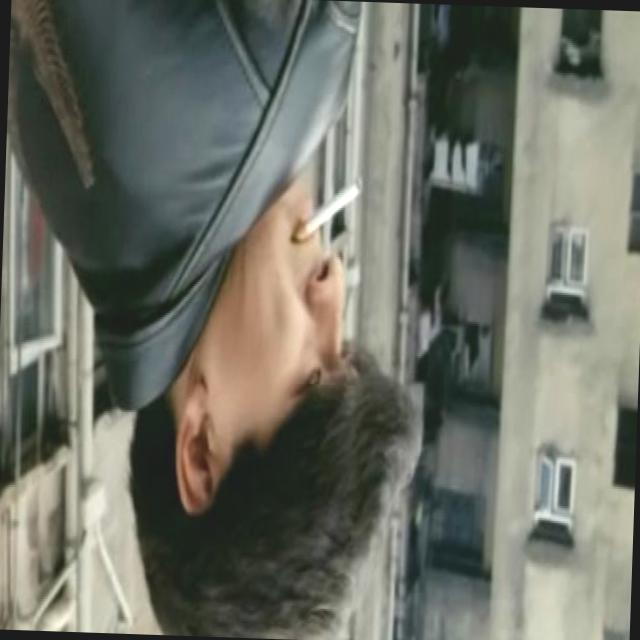cigarette: (294, 178, 359, 244)
